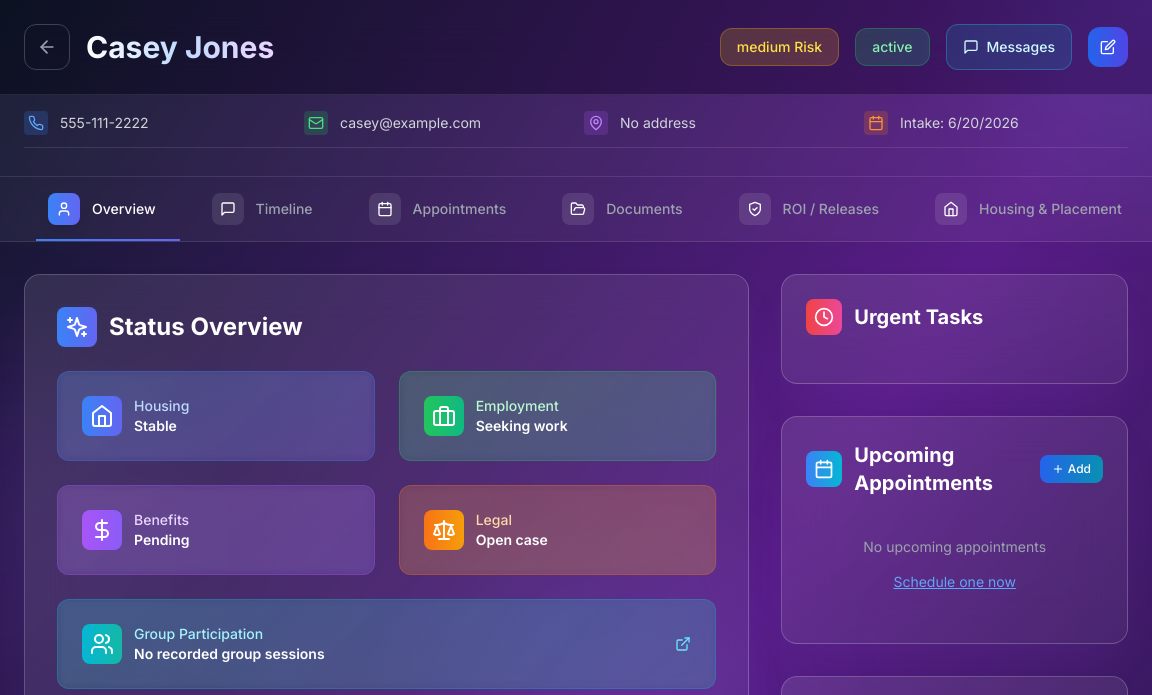
Test: ClientDashboard - ROI / Releases tab & Documents restoration › shows compact ROI summary counts from the canonical roi-records source
Click the button "Documents": (622, 209) left=538, top=177, right=707, bottom=241
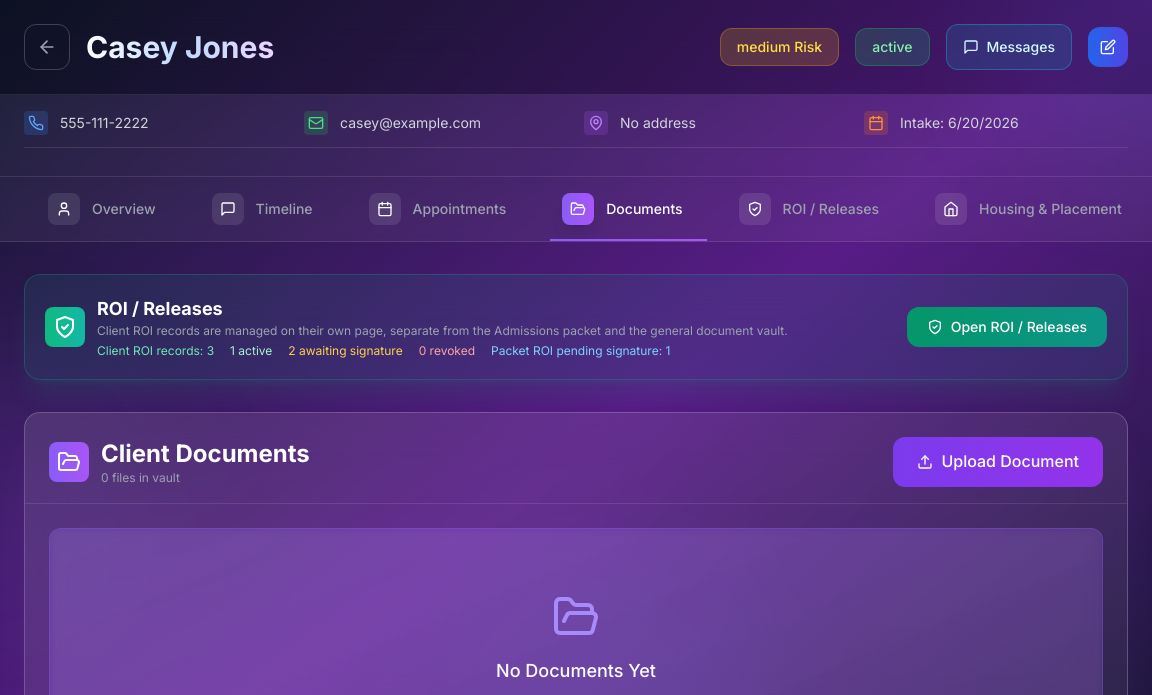
Check: the text "Client ROI records: 3" is shown, box left=97, top=343, right=214, bottom=359
Check: the text "1 active" is shown, box left=230, top=343, right=272, bottom=359
Check: the text "2 awaiting signature" is shown, box left=288, top=343, right=403, bottom=359
